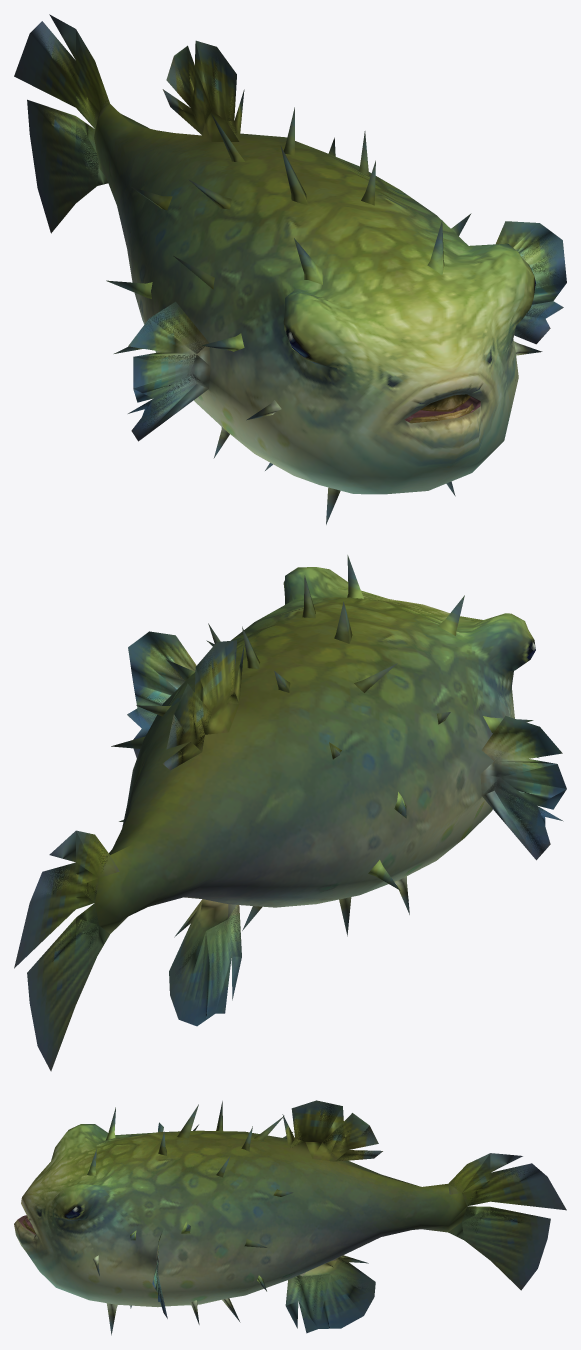
File: pufferfish.glb
The picture shows the model from 3 angles, top to bottom: view 1: azimuth 30°, elevation 25°; view 2: azimuth 150°, elevation 25°; view 3: azimuth 270°, elevation 25°; orthographic projection. The views are drawn at different scales.
Visible parts, largest first — view 1: Geoset_64; view 2: Geoset_64; view 3: Geoset_64.
Part boxes in pixels (left/top/right/bottom): Geoset_64: left=14, top=14, right=566, bottom=524; Geoset_64: left=14, top=555, right=566, bottom=1071; Geoset_64: left=14, top=1100, right=566, bottom=1335.
Size of the model in its own units: 0.053 by 0.0437 by 0.094.
Materials: 1 (1 with a texture image).
